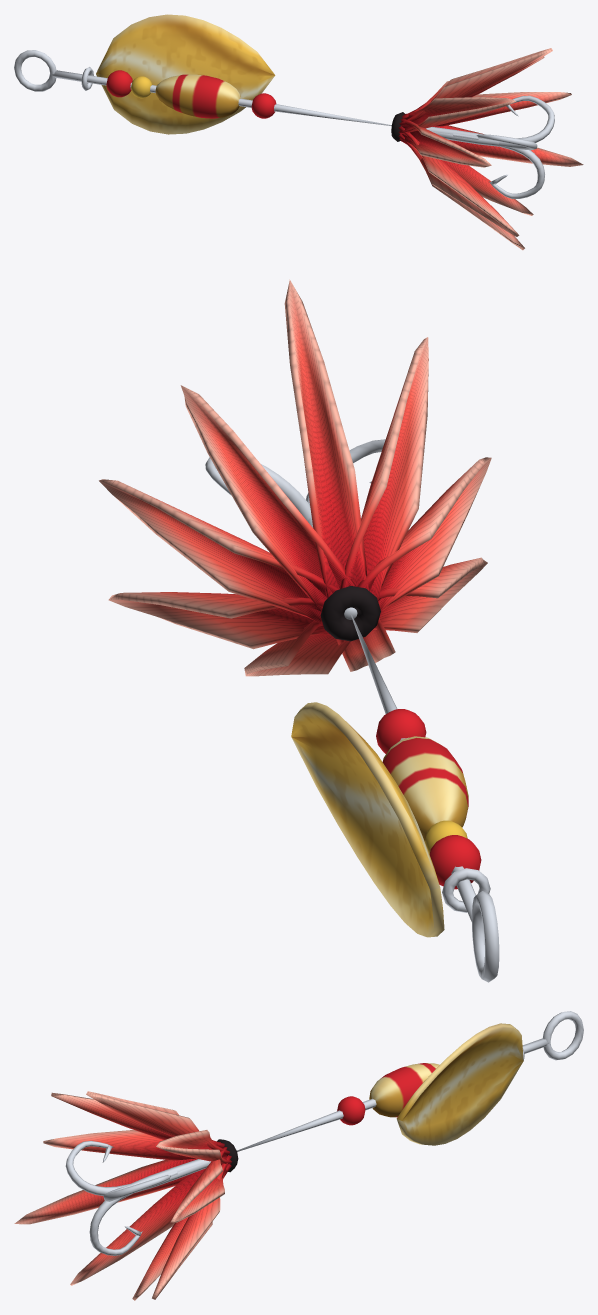
Rendered from SpinnerLure.glb.
3 renders of one model, top to bottom at view 1: azimuth 30°, elevation 25°; view 2: azimuth 150°, elevation 25°; view 3: azimuth 270°, elevation 25°, orthographic. The views are drawn at different scales.
Visible parts, largest first — view 1: SpinnerLure; view 2: SpinnerLure; view 3: SpinnerLure.
Boxes of the visible parts, bbox=[...] form: SpinnerLure: bbox=[14, 14, 583, 250]; SpinnerLure: bbox=[99, 279, 499, 982]; SpinnerLure: bbox=[14, 1011, 583, 1300].
Size of the model in its own units: 0.8788 by 0.4145 by 0.9982.
Materials: 1 (1 with a texture image).
